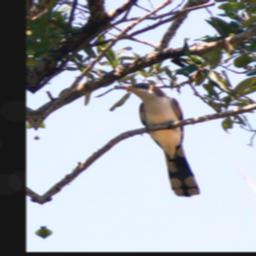Cuckoo: (114, 80, 204, 202)
